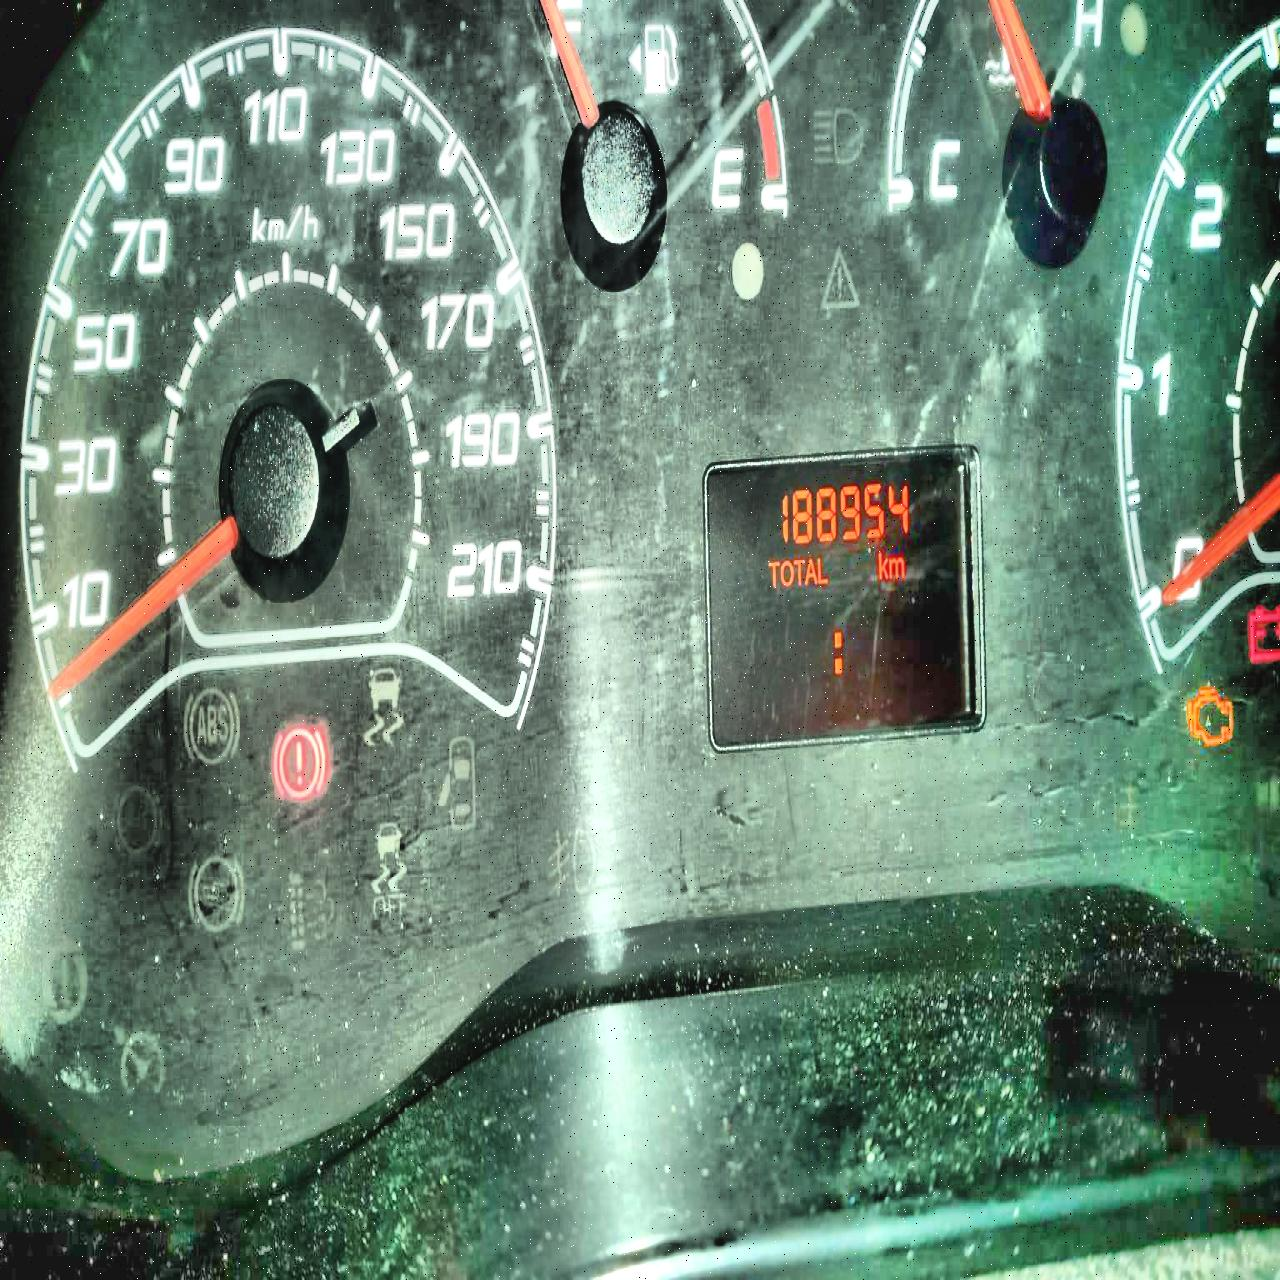1: (779, 492, 788, 545)
4: (887, 483, 908, 533)
5: (863, 482, 884, 538)
8: (815, 485, 836, 543), (791, 488, 812, 544)
9: (839, 484, 860, 539)
X: (832, 629, 843, 675), (803, 557, 817, 587), (779, 558, 794, 586), (888, 554, 905, 578), (792, 557, 805, 585), (877, 550, 888, 579), (768, 559, 779, 588), (817, 556, 828, 584)
odometer: (700, 440, 987, 757)
